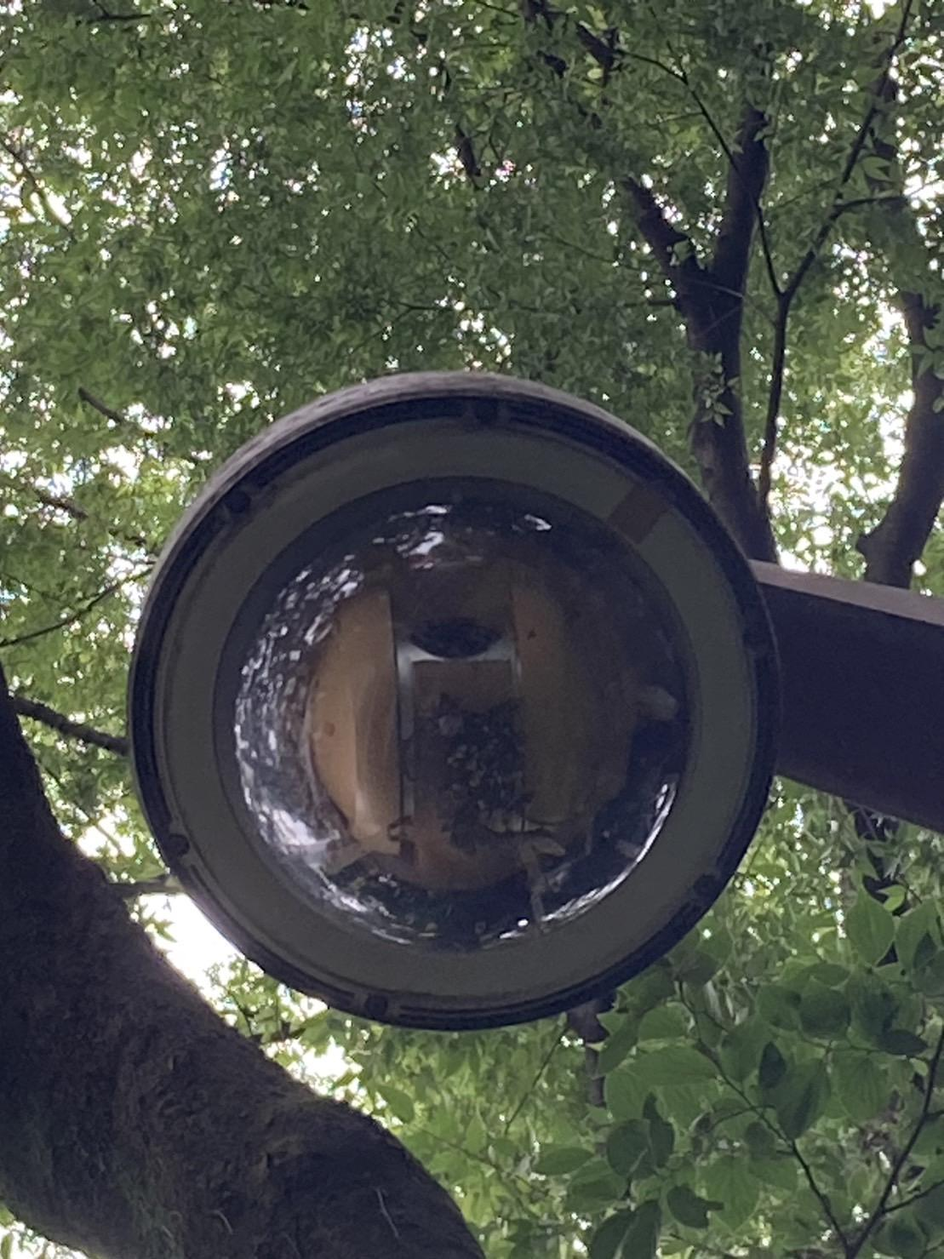maru: (119, 343, 800, 1058)
